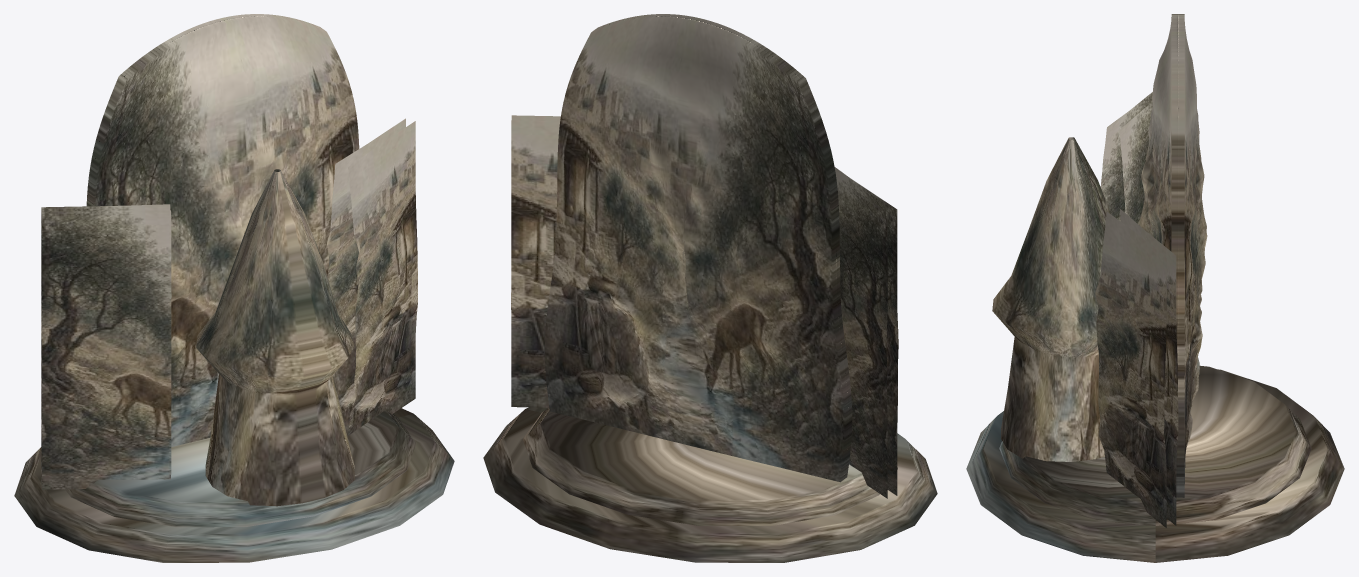
File: psalms-2-1.glb
The picture shows the model from 3 angles, left to right: view 1: azimuth 30°, elevation 25°; view 2: azimuth 150°, elevation 25°; view 3: azimuth 270°, elevation 25°; orthographic projection. The views are drawn at different scales.
Visible parts, largest first — view 1: PaintingSculptureMonument; view 2: PaintingSculptureMonument; view 3: PaintingSculptureMonument.
Part boxes in pixels (x1,y1,x2,y2): PaintingSculptureMonument: (14,14,454,562); PaintingSculptureMonument: (483,14,937,562); PaintingSculptureMonument: (966,14,1344,562).
Bounding box in the file's own units: 2.76 × 2.99 × 2.35.
1 material, 1 textured.
